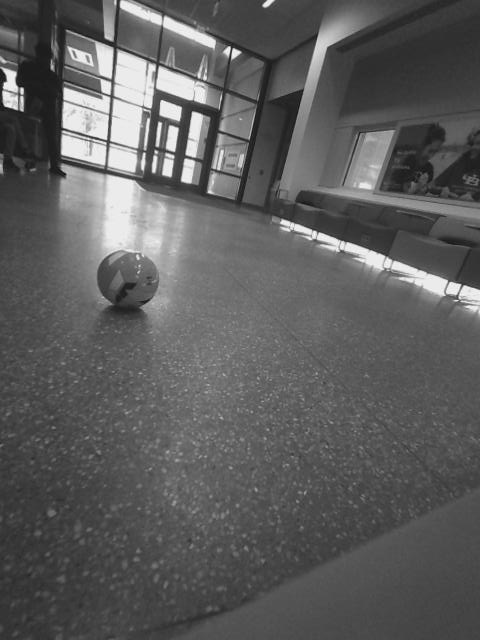ball: (88, 240, 166, 319)
